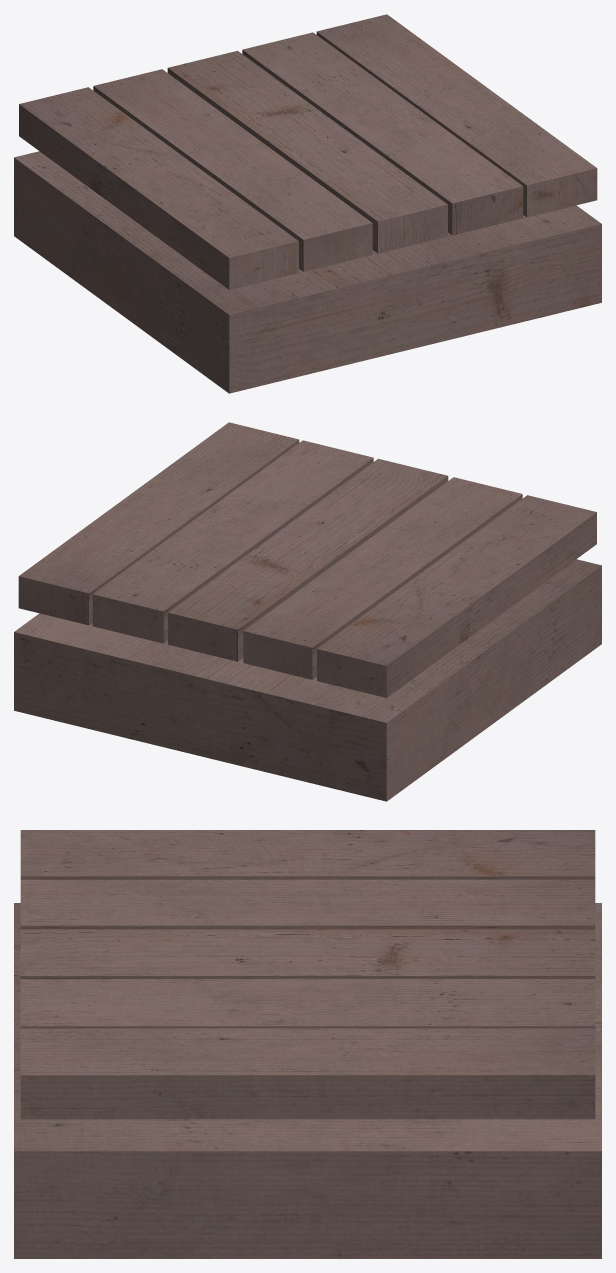
The model's file is PlanksFloor.glb.
3 renders of one model, top to bottom at view 1: azimuth 30°, elevation 25°; view 2: azimuth 150°, elevation 25°; view 3: azimuth 270°, elevation 25°, orthographic. The views are drawn at different scales.
Parts seen in each view (by area): view 1: SolidFloor; view 2: SolidFloor; view 3: SolidFloor.
Boxes of the visible parts, <box> form: SolidFloor: <box>14,14,601,393</box>; SolidFloor: <box>14,422,601,801</box>; SolidFloor: <box>14,830,601,1258</box>.
Bounding box in the file's own units: 2 × 0.6831 × 2.
1 material, 1 textured.
